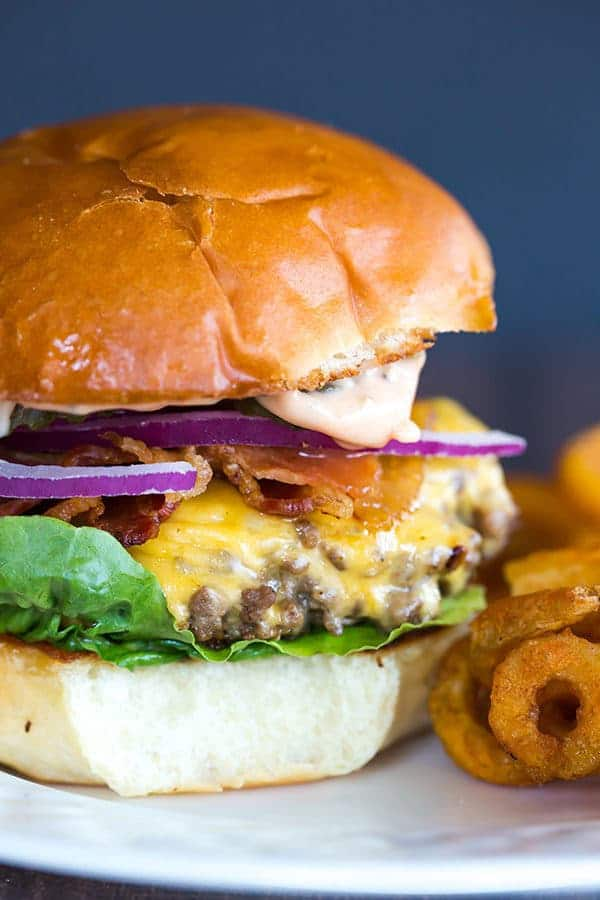hamburger_buns: (1, 82, 519, 390)
